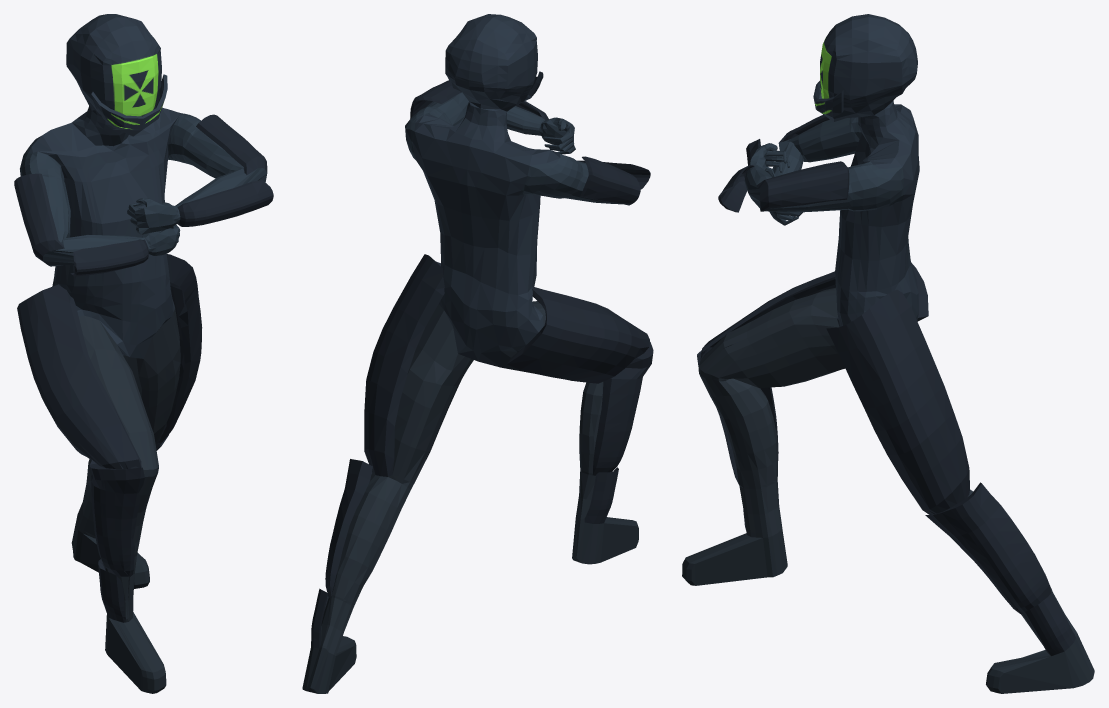
File: Bastion_WR_000020.obj
3 views of the same model, side by side, from view 1: azimuth 30°, elevation 25°; view 2: azimuth 150°, elevation 25°; view 3: azimuth 270°, elevation 25° (orthographic). The views are drawn at different scales.
Visible parts, largest first — view 1: Cube.002; view 2: Cube.002; view 3: Cube.002.
Part boxes in pixels (x1,y1,x2,y2): Cube.002: (14, 14, 273, 693); Cube.002: (302, 14, 653, 693); Cube.002: (682, 14, 1094, 693).
Bounding box in the file's own units: 1.31 × 3.59 × 2.13.
